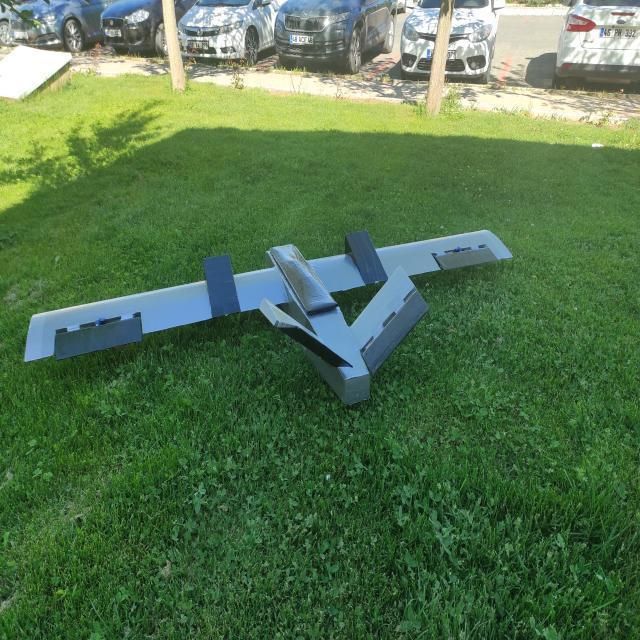iha: (0, 147, 594, 450)
